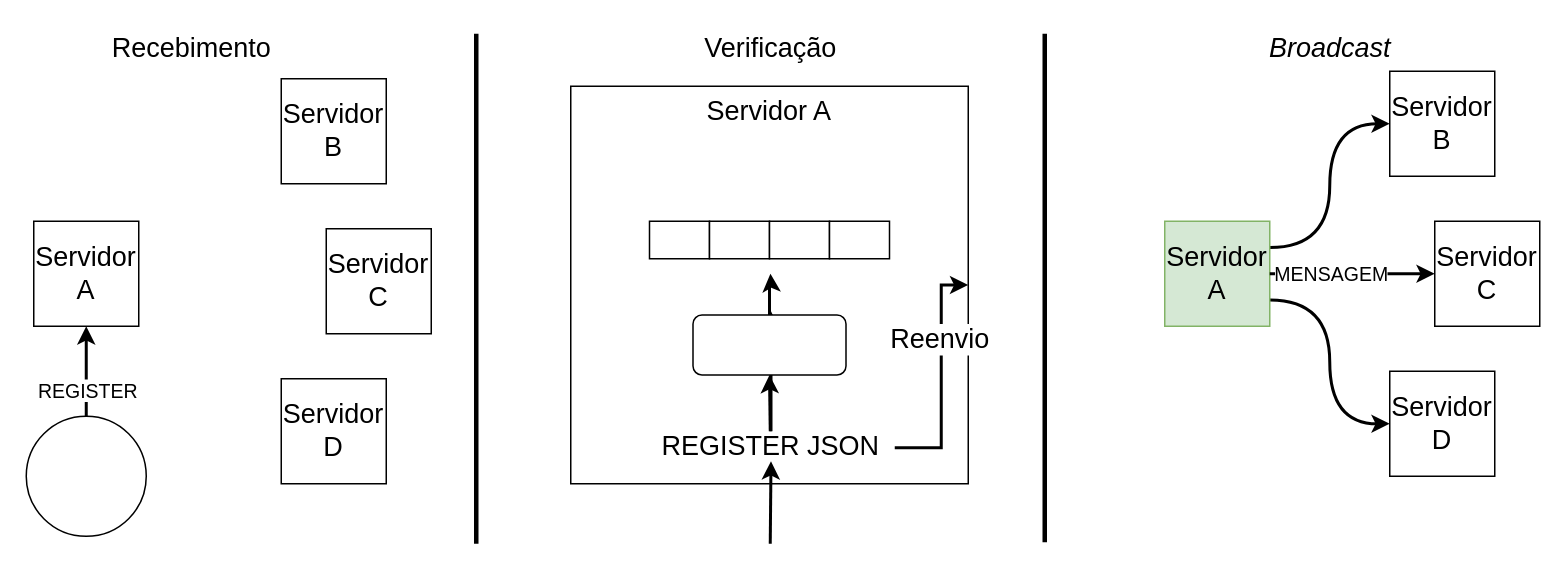
The diagram is 1566 pixels wide and 582 high, and some of its shapes have lost their labels. The shapes that lost their labels are listed below. From the top down, each one's centre as x and y in pixels, then its label:
pixel 769 344: PLAYER
pixel 85 475: Jogo
